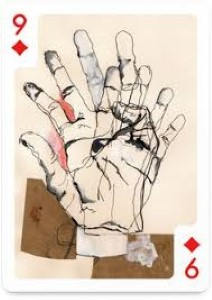NineOfDiamonds: (6, 10, 199, 279)
